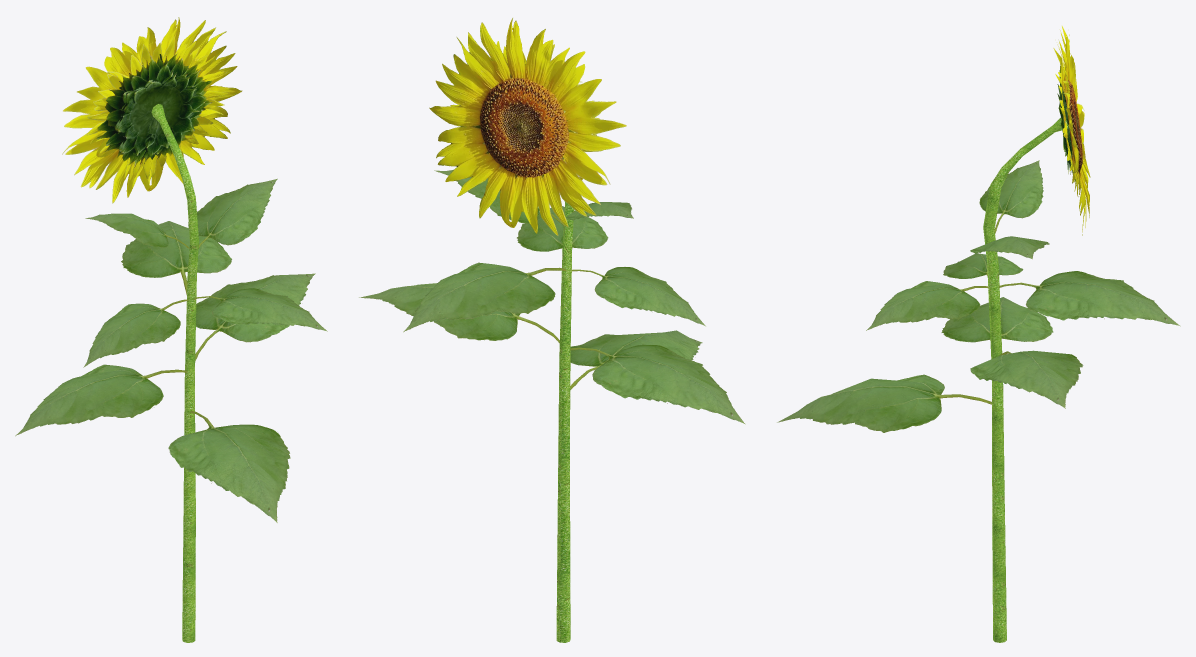
File: realsunflower.glb
3 renders of one model, left to right at view 1: azimuth 30°, elevation 25°; view 2: azimuth 150°, elevation 25°; view 3: azimuth 270°, elevation 25°, orthographic. The views are drawn at different scales.
Parts seen in each view (by area): view 1: Object_2; view 2: Object_2; view 3: Object_2.
Part boxes in pixels (bbox=[...]): Object_2: bbox=[15, 17, 327, 642]; Object_2: bbox=[359, 18, 745, 642]; Object_2: bbox=[777, 26, 1180, 642].
Bounding box in the file's own units: 0.8714 × 1.5 × 0.9023.
1 material, 1 textured.
